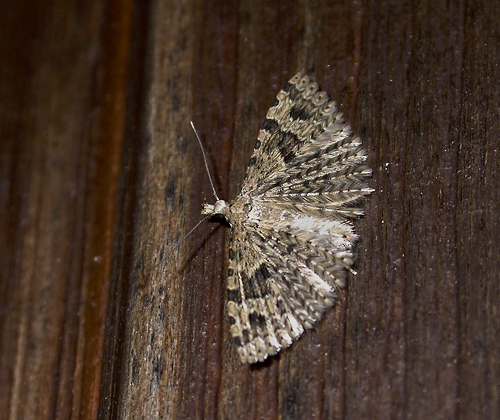Alucitidae: (145, 56, 376, 364)
moth: (143, 54, 374, 362)
